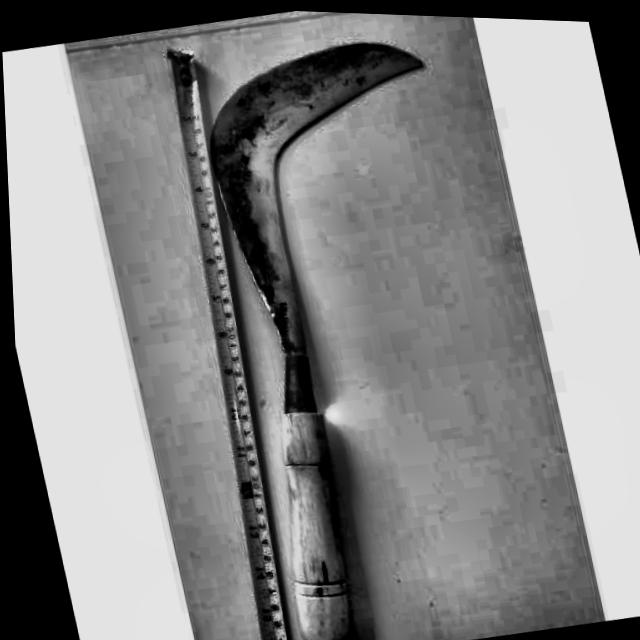celurit: (202, 34, 433, 640)
